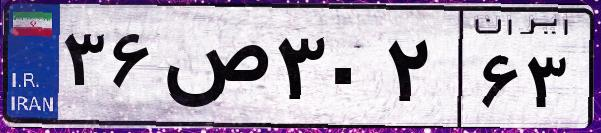0: (330, 28, 385, 110)
2: (385, 28, 445, 110)
3: (270, 28, 330, 110), (57, 26, 110, 100), (525, 38, 570, 115)
6: (475, 38, 525, 113), (110, 28, 158, 98)
ص: (158, 20, 270, 120)
